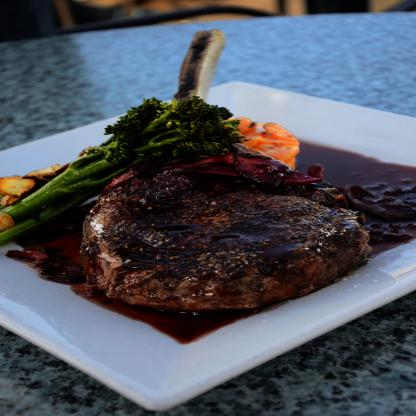Carne: (79, 164, 372, 304)
